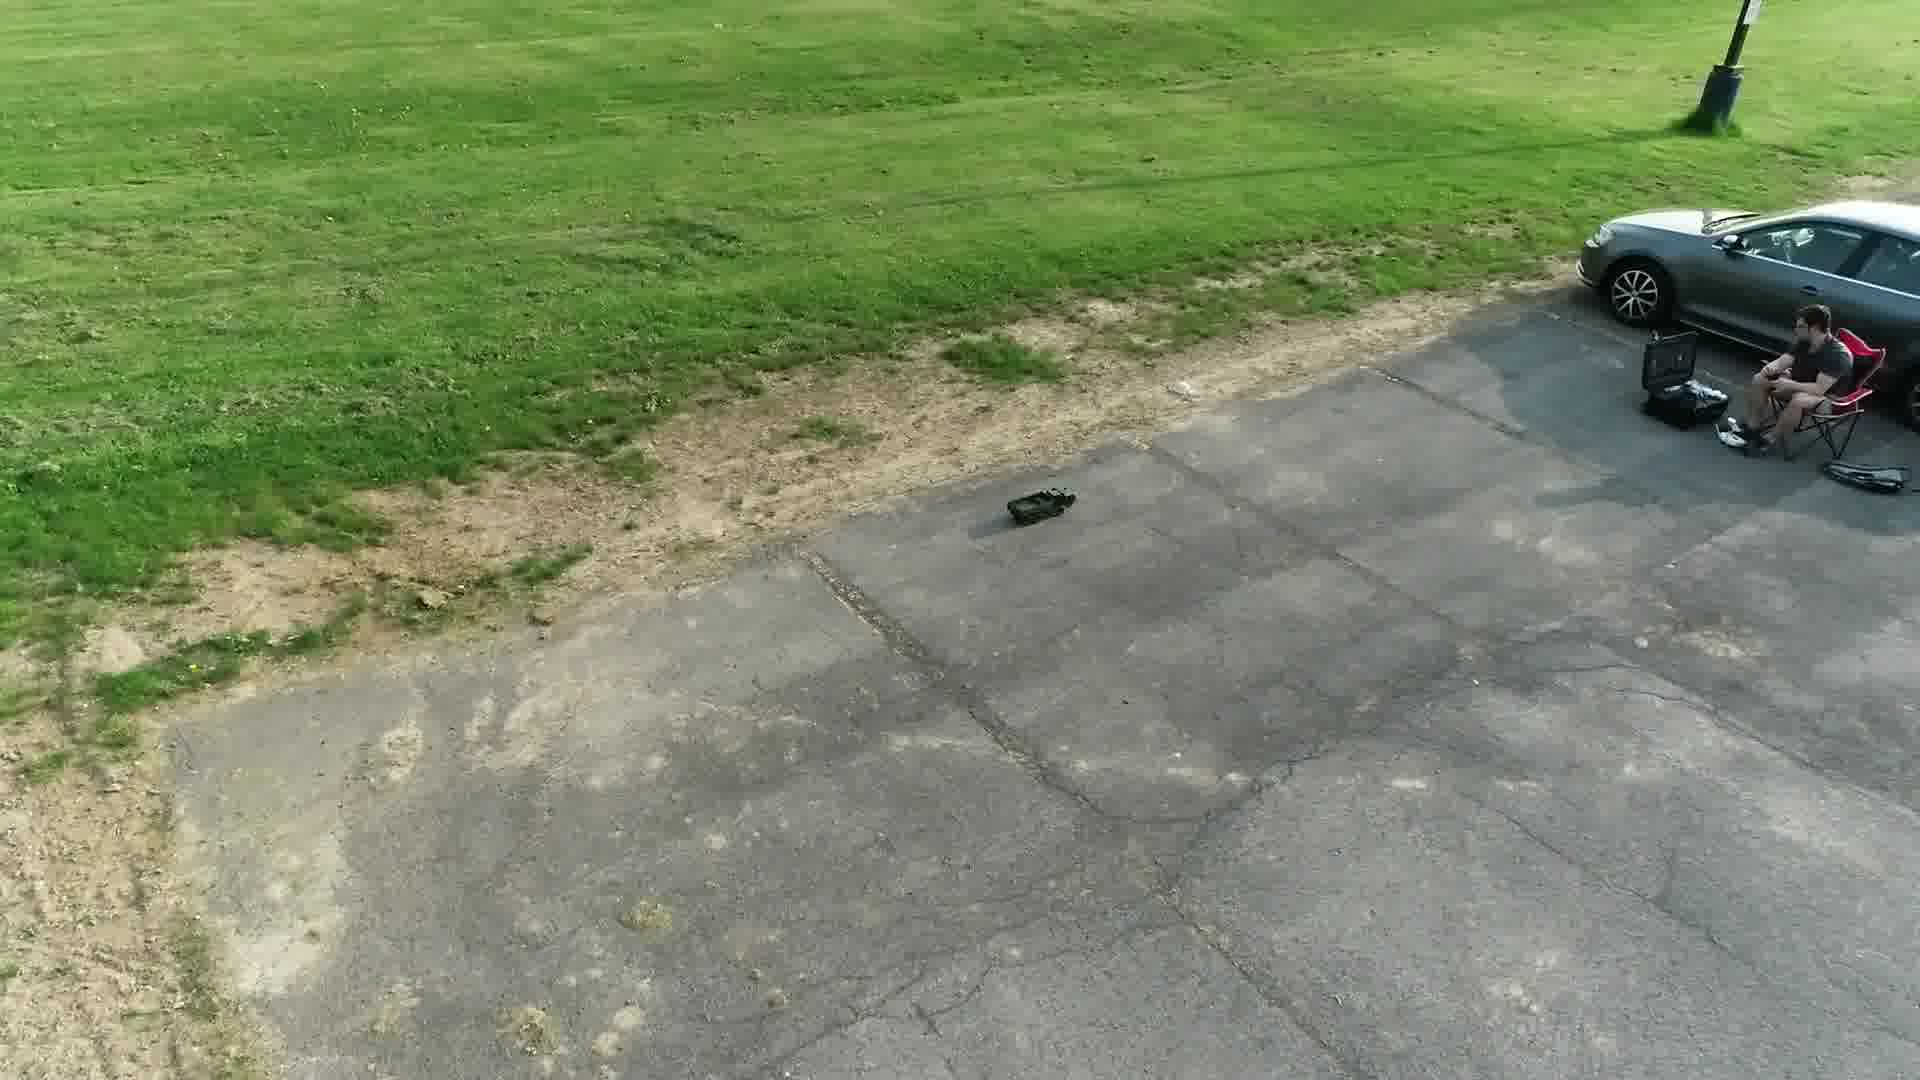transporter9: (1000, 484, 1084, 526)
